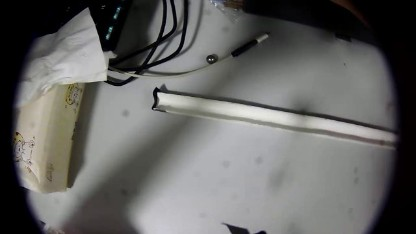gangzhu: (206, 53, 217, 63)
